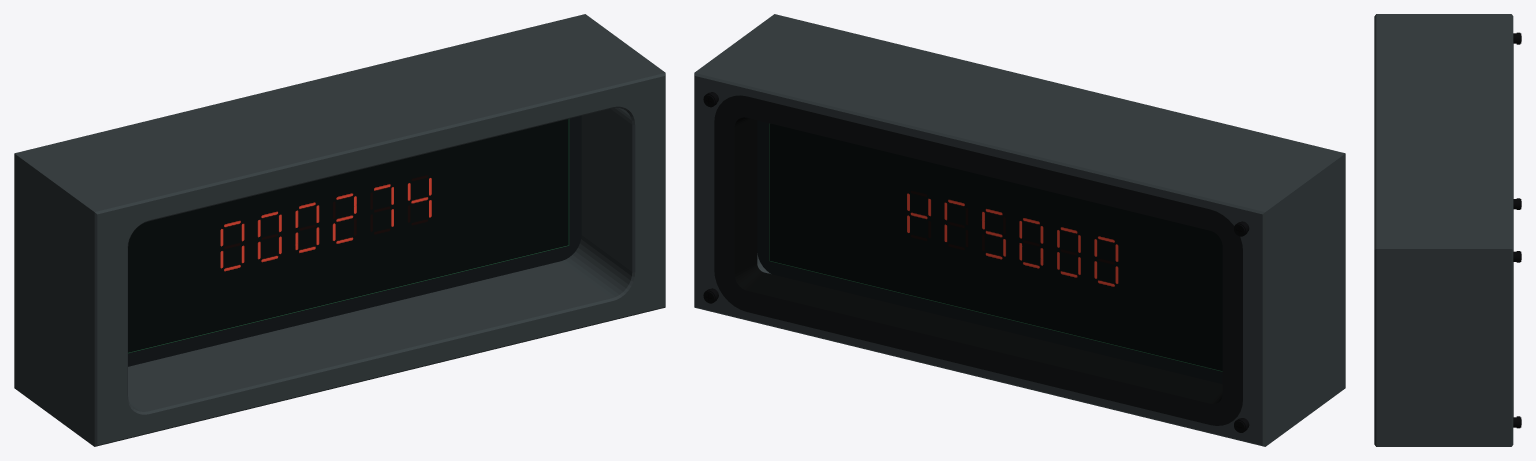
File: MFDStudio.obj
The picture shows the model from 3 angles, left to right: view 1: azimuth 30°, elevation 25°; view 2: azimuth 150°, elevation 25°; view 3: azimuth 270°, elevation 25°; orthographic projection. The views are drawn at different scales.
Visible parts, largest first — view 1: MFDStudioBody, MFDStudioScreen; view 2: MFDStudioBody, MFDStudioScreen, MFDStudioScrews; view 3: MFDStudioBody, MFDStudioScrews.
Part boxes in pixels (bbox=[...]): MFDStudioBody: bbox=[14, 14, 665, 446]; MFDStudioScreen: bbox=[128, 116, 581, 366]; MFDStudioBody: bbox=[694, 14, 1345, 446]; MFDStudioScreen: bbox=[757, 120, 1222, 384]; MFDStudioScrews: bbox=[703, 92, 1249, 432]; MFDStudioBody: bbox=[1374, 14, 1513, 446]; MFDStudioScrews: bbox=[1513, 32, 1521, 428].
Size of the model in its own units: 0.14 by 0.055 by 0.037.
Materials: 6 (1 with a texture image).
